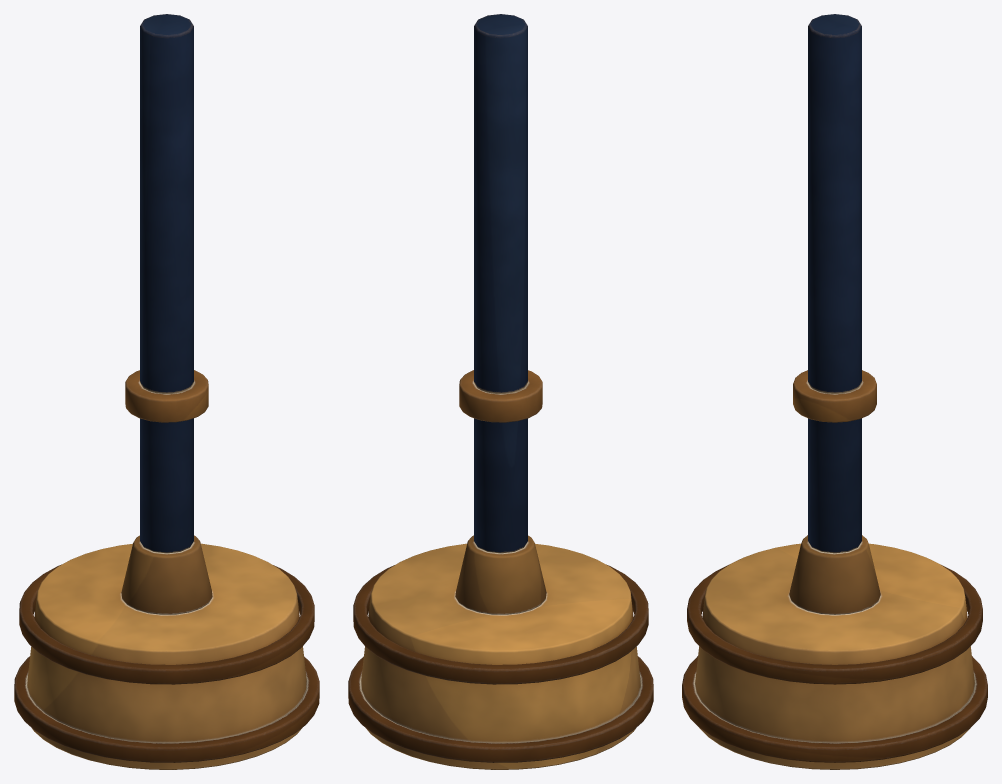
Rendered from GF_Hammer.glb.
3 views of the same model, side by side, from view 1: azimuth 30°, elevation 25°; view 2: azimuth 150°, elevation 25°; view 3: azimuth 270°, elevation 25° (orthographic).
Parts seen in each view (by area): view 1: GF_Hammer; view 2: GF_Hammer; view 3: GF_Hammer.
Part boxes in pixels (bbox=[...]): GF_Hammer: bbox=[14, 14, 319, 769]; GF_Hammer: bbox=[348, 14, 653, 769]; GF_Hammer: bbox=[682, 14, 987, 769].
Size of the model in its own units: 3.64 by 9.04 by 3.64.
4 materials, 4 textured.
